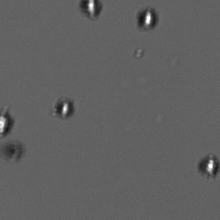Dead Cell: (3, 142, 23, 162)
Living Cell: (135, 7, 158, 32), (53, 96, 74, 120), (198, 154, 219, 178), (77, 1, 103, 19), (1, 108, 13, 140)
